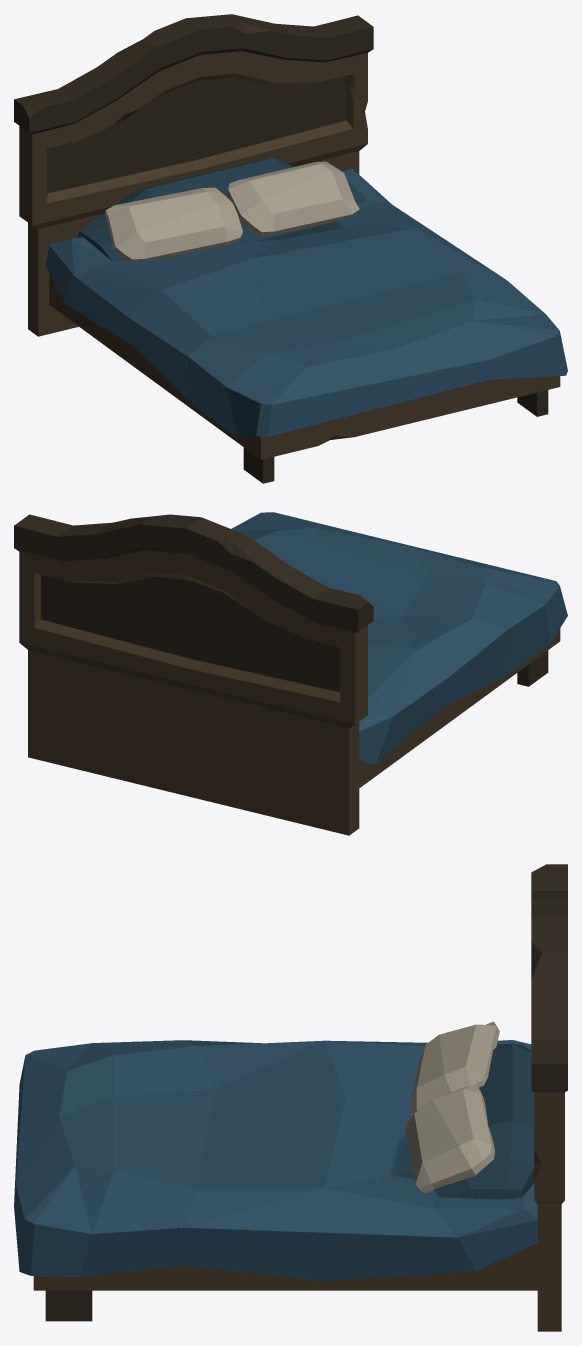
Rendered from SM_Prop_Bed_Big_01.glb.
The picture shows the model from 3 angles, top to bottom: view 1: azimuth 30°, elevation 25°; view 2: azimuth 150°, elevation 25°; view 3: azimuth 270°, elevation 25°; orthographic projection. The views are drawn at different scales.
Visible parts, largest first — view 1: SM_Prop_Bed_Big_01; view 2: SM_Prop_Bed_Big_01; view 3: SM_Prop_Bed_Big_01.
Boxes of the visible parts, box(x1,y1,x2,y2) form: SM_Prop_Bed_Big_01: box(14, 14, 567, 483); SM_Prop_Bed_Big_01: box(14, 512, 567, 835); SM_Prop_Bed_Big_01: box(14, 864, 567, 1331).
Bounding box in the file's own units: 2.44 × 1.83 × 2.87.
Materials: 1 (1 with a texture image).
